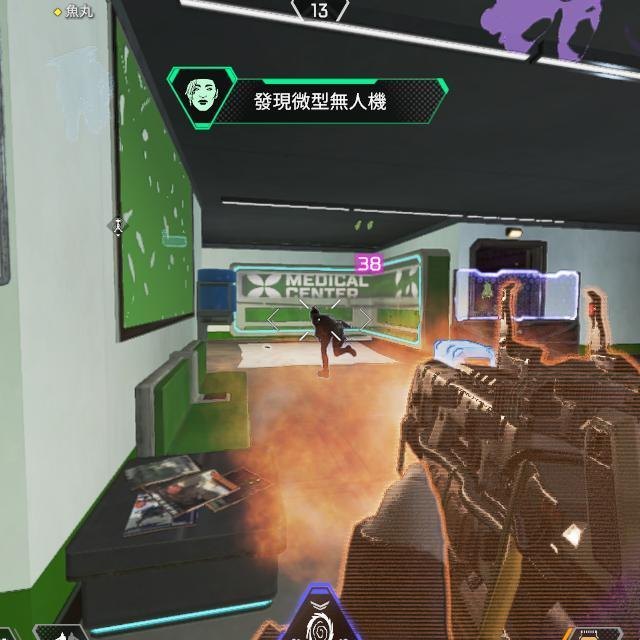avatar: (308, 304, 359, 380)
